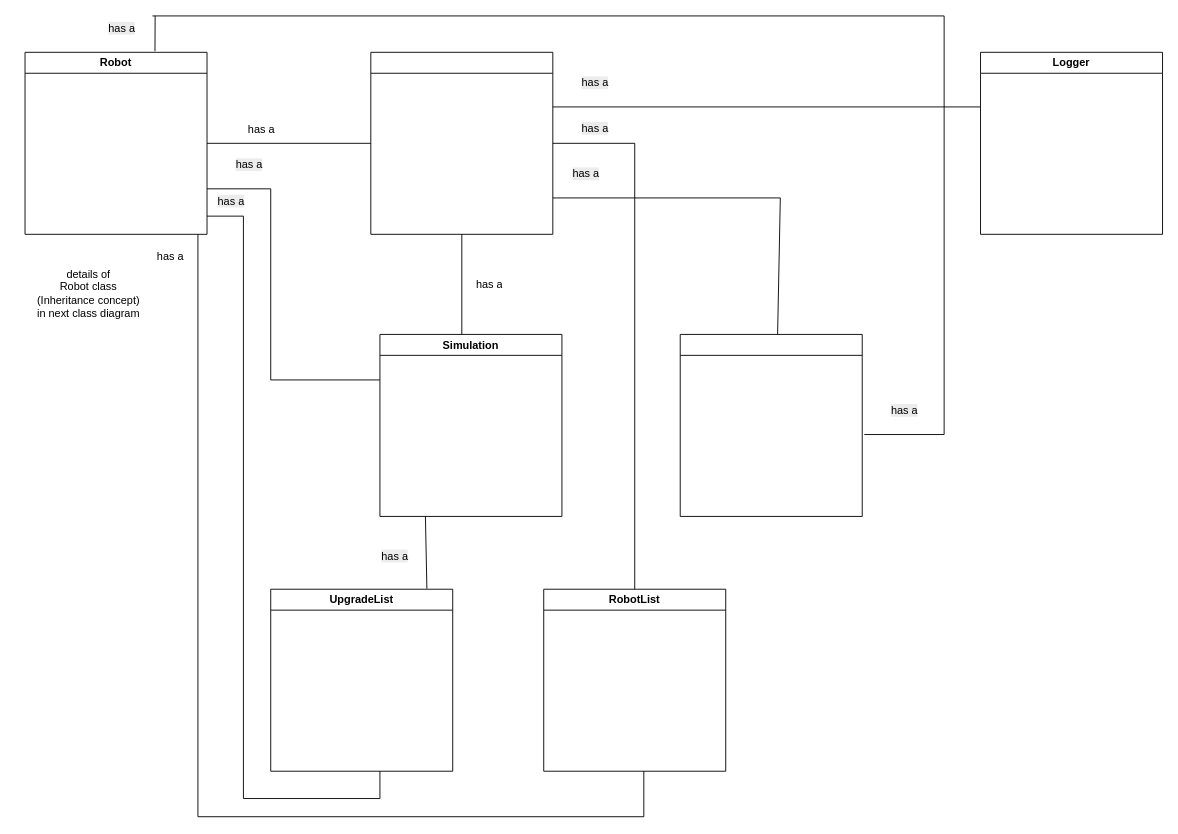
Some shapes in this 1178 by 834 pixel diagram are drawn without their labels. The shapes that lost their labels are listed below. From the top down, each one's centre as x and y in pixels, then its label:
pixel 461 142: Battlefield
pixel 770 425: Respawn
